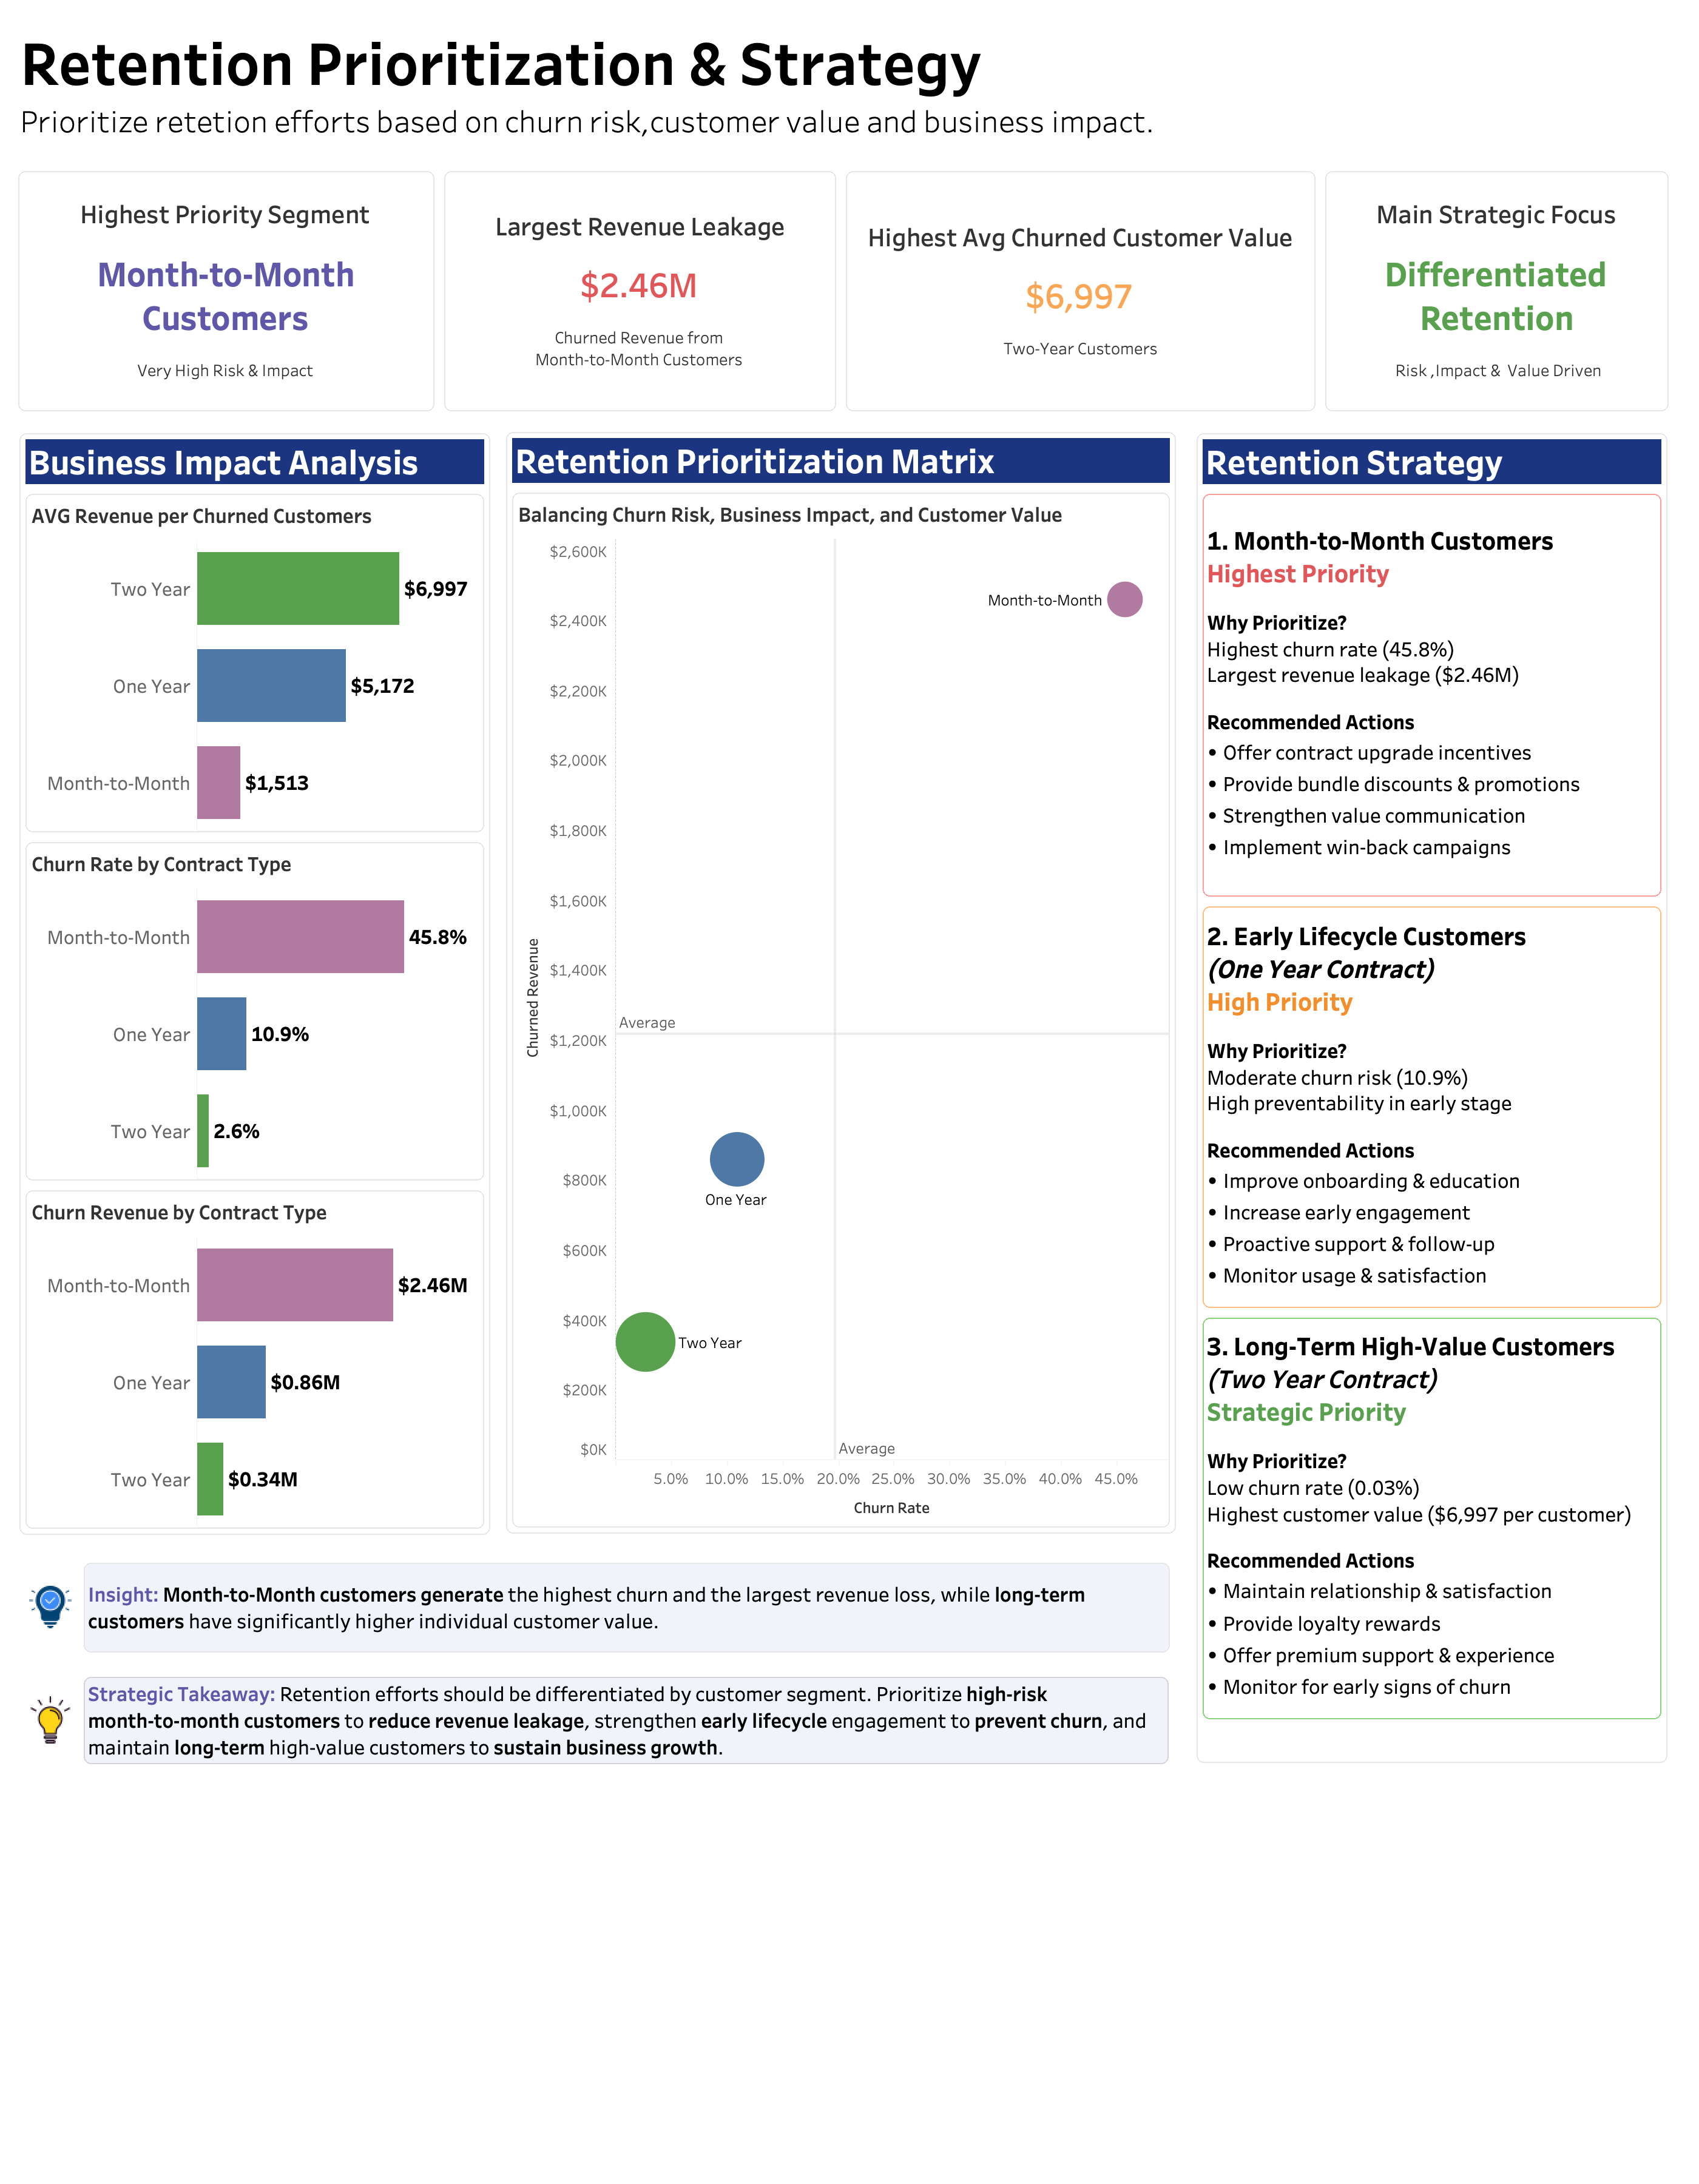

The page's visual inventory and layout, read from the dashboard file:
{"tool":"tableau","page":{"name":"Business Impact & Retention Strategy","canvas":[1400,1800],"ordinal":0},"visuals":[{"type":"text","box":[10,14,1004,107]},{"type":"worksheet","title":"Highest Priority Segment","mark":"Text","box":[11,137,351,206]},{"type":"worksheet","title":"Largest Revenue Laekage","mark":"Text","box":[362,137,331,206]},{"type":"worksheet","title":"Highest Avg Churned Customers Value","mark":"Text","box":[693,137,395,206]},{"type":"worksheet","title":"Main Strategic Focus","mark":"Text","box":[1088,137,291,206]},{"type":"text","box":[418,357,550,45]},{"type":"text","box":[17,358,386,45]},{"type":"text","box":[987,358,386,45]},{"type":"worksheet","title":"Retention Risk Matrix","mark":"Circle","rows":["Calculation_6545121564545033"],"cols":["Calculation_6545120896495622"],"box":[418,402,550,861]},{"type":"worksheet","title":"AVG Revenue per Churned Customers","mark":"Bar","rows":["Contract"],"cols":["Calculation_6545120976011271"],"box":[17,403,386,287]},{"type":"text","box":[987,403,386,340]},{"type":"worksheet","title":"Churn Rate by Contract Type","mark":"Bar","rows":["Contract"],"cols":["Calculation_6545120896495622"],"box":[17,690,386,287]},{"type":"text","box":[987,743,386,339]},{"type":"worksheet","title":"Churn Revenue by Contract Type","mark":"Bar","rows":["Contract"],"cols":["Total_Revenue"],"box":[17,976.9,386,287]},{"type":"text","box":[987,1082,386,339]},{"type":"image","param":"/Users/yangpeiqi/Documents/My Tableau Repository/Shapes/Telecom/inovation.png","box":[18,1284,47,82]},{"type":"text","box":[65,1284,903,82]},{"type":"image","param":"/Users/yangpeiqi/Documents/My Tableau Repository/Shapes/Telecom/lightbulb.png","box":[18,1378,47,80]},{"type":"text","box":[65,1378,902,80]}]}

Visuals, with their boxes in screenshot pixels (x1, y1, x2, y2), scaled from the page's 1400x1800 canvas onto the 1699x2184 screenshot:
text: bbox(12, 17, 1231, 147)
"Highest Priority Segment" worksheet (Text marks): bbox(13, 166, 439, 416)
"Largest Revenue Laekage" worksheet (Text marks): bbox(439, 166, 841, 416)
"Highest Avg Churned Customers Value" worksheet (Text marks): bbox(841, 166, 1320, 416)
"Main Strategic Focus" worksheet (Text marks): bbox(1320, 166, 1674, 416)
text: bbox(507, 433, 1175, 488)
text: bbox(21, 434, 489, 489)
text: bbox(1198, 434, 1666, 489)
"Retention Risk Matrix" worksheet (Circle marks): bbox(507, 488, 1175, 1532)
"AVG Revenue per Churned Customers" worksheet (Bar marks): bbox(21, 489, 489, 837)
text: bbox(1198, 489, 1666, 902)
"Churn Rate by Contract Type" worksheet (Bar marks): bbox(21, 837, 489, 1185)
text: bbox(1198, 902, 1666, 1313)
"Churn Revenue by Contract Type" worksheet (Bar marks): bbox(21, 1185, 489, 1534)
text: bbox(1198, 1313, 1666, 1724)
image: bbox(22, 1558, 79, 1657)
text: bbox(79, 1558, 1175, 1657)
image: bbox(22, 1672, 79, 1769)
text: bbox(79, 1672, 1174, 1769)
